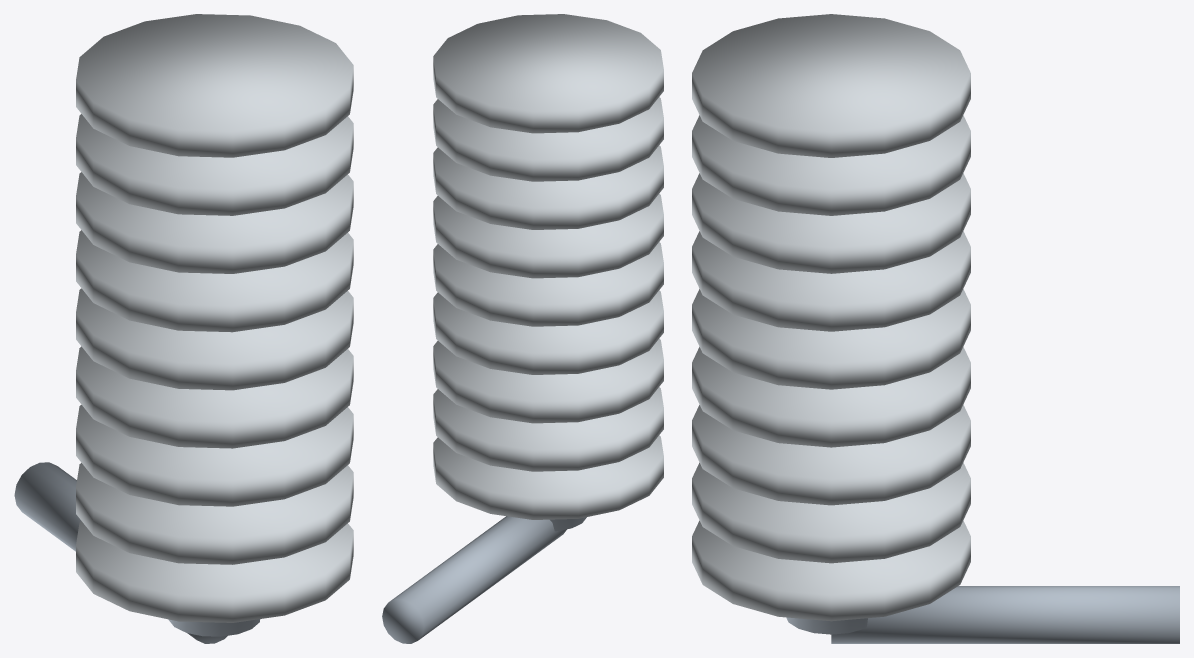
The model's file is humidity.glb.
The picture shows the model from 3 angles, left to right: view 1: azimuth 30°, elevation 25°; view 2: azimuth 150°, elevation 25°; view 3: azimuth 270°, elevation 25°; orthographic projection. The views are drawn at different scales.
Parts seen in each view (by area): view 1: Radiation shield, Sensor spine; view 2: Radiation shield, Sensor spine; view 3: Radiation shield, Sensor spine.
Part boxes in pixels (<box>): Radiation shield: <box>76,14,353,622</box>; Sensor spine: <box>14,462,260,643</box>; Radiation shield: <box>433,14,663,519</box>; Sensor spine: <box>382,516,586,643</box>; Radiation shield: <box>692,14,970,621</box>; Sensor spine: <box>786,586,1179,643</box>.
Bounding box in the file's own units: 0.24 × 0.54 × 0.42.
